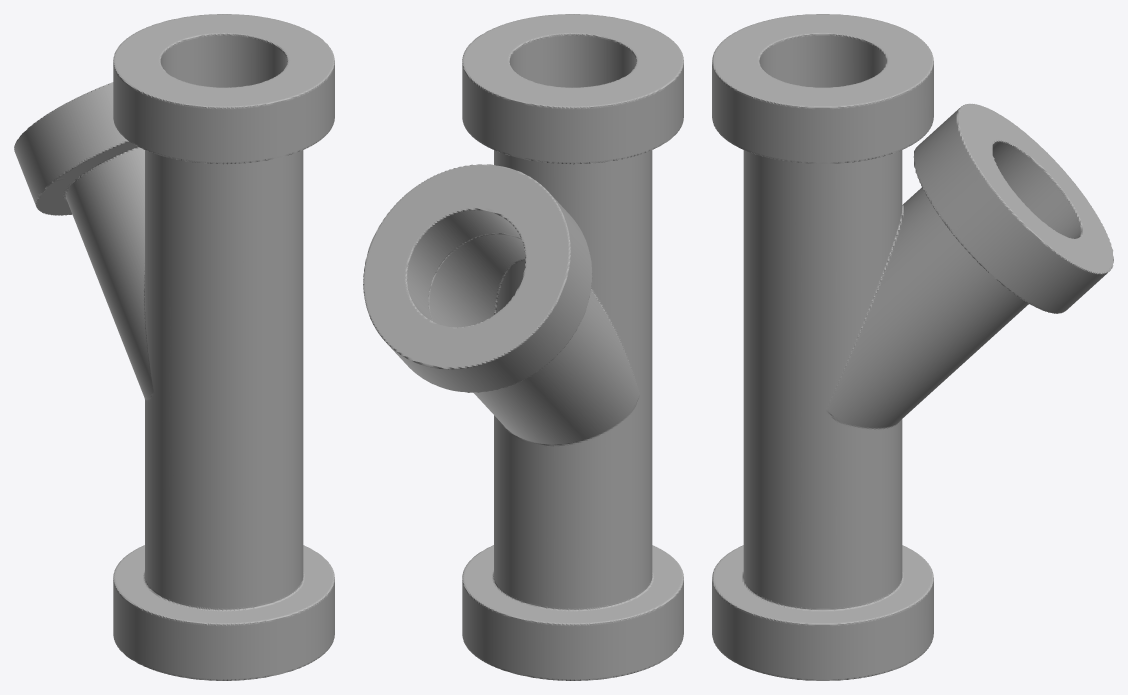
File: Pipe12.fbx
The picture shows the model from 3 angles, left to right: view 1: azimuth 30°, elevation 25°; view 2: azimuth 150°, elevation 25°; view 3: azimuth 270°, elevation 25°; orthographic projection.
Visible parts, largest first — view 1: Pipe12; view 2: Pipe12; view 3: Pipe12.
Boxes of the visible parts, bbox=[...] form: Pipe12: bbox=[14, 14, 334, 680]; Pipe12: bbox=[363, 14, 683, 680]; Pipe12: bbox=[712, 14, 1113, 680].
Size of the model in its own units: 199 by 569 by 361.
